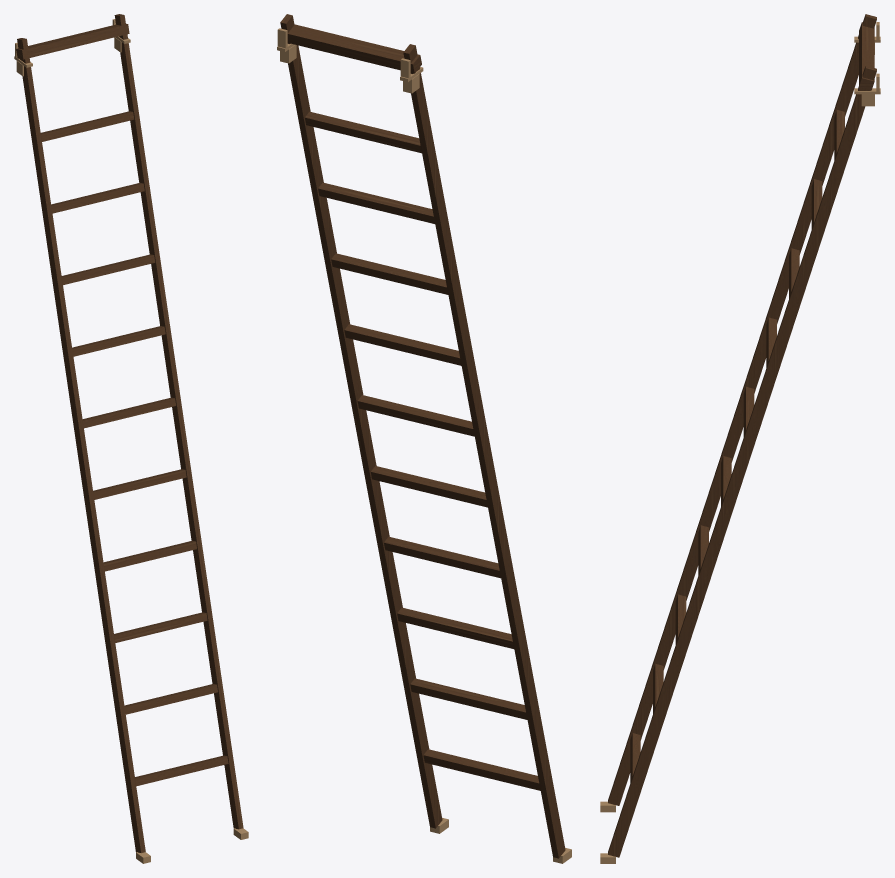
Rendered from library_ladder.gltf.
3 renders of one model, left to right at view 1: azimuth 30°, elevation 25°; view 2: azimuth 150°, elevation 25°; view 3: azimuth 270°, elevation 25°, orthographic. The views are drawn at different scales.
Visible parts, largest first — view 1: LibraryLadder_Wood, LibraryLadder_Bronze; view 2: LibraryLadder_Wood, LibraryLadder_Bronze; view 3: LibraryLadder_Wood, LibraryLadder_Bronze.
Part boxes in pixels (x1=…): LibraryLadder_Wood: x1=16, y1=14, x2=243, y2=852; LibraryLadder_Bronze: x1=14, y1=19, x2=248, y2=863; LibraryLadder_Wood: x1=280, y1=14, x2=565, y2=858; LibraryLadder_Bronze: x1=277, y1=28, x2=571, y2=863; LibraryLadder_Wood: x1=608, y1=14, x2=876, y2=857; LibraryLadder_Bronze: x1=600, y1=22, x2=880, y2=863.
Size of the model in its own units: 0.4999 by 3.3 by 1.06.
2 materials, 1 textured.
